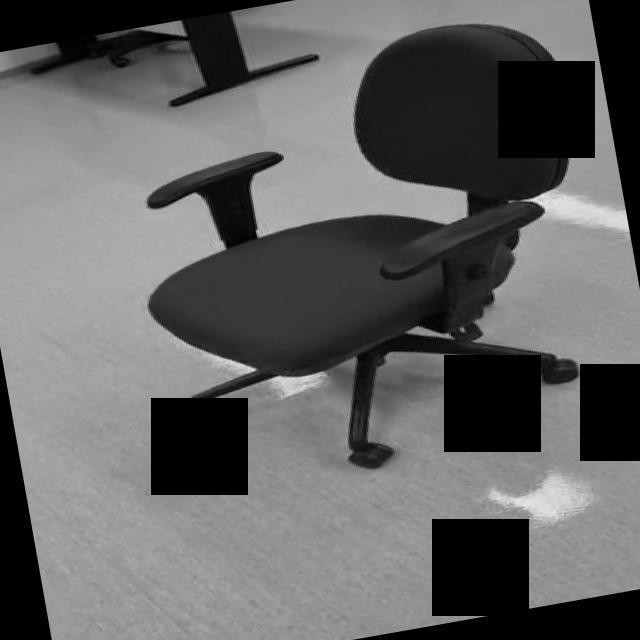chair: (109, 4, 628, 502)
